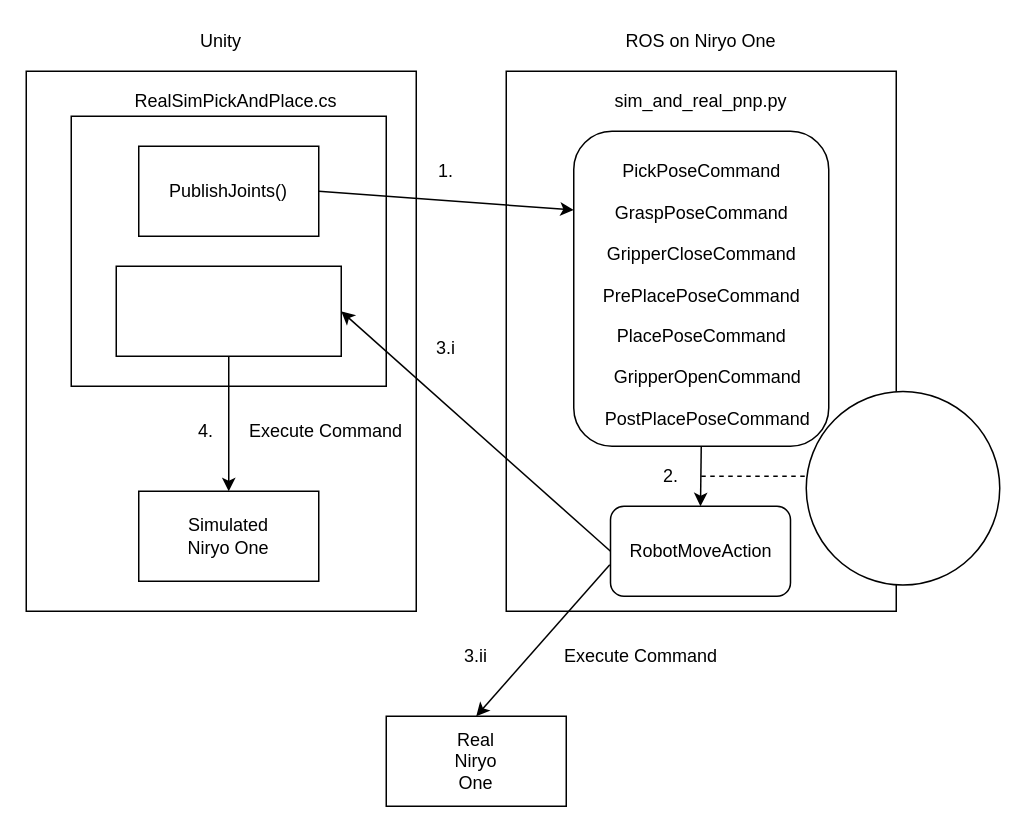
The diagram is 1026 pixels wide and 833 high, and some of its shapes have lost their labels. The shapes that lost their labels are listed below. From the top down, each one's box as (x1, y1, x2, y2) in pixels, then its label:
(115, 265, 341, 356): RobotMoveActionGoal Subscriber
(805, 390, 1000, 585): Each command sent one at a time after previous command has finished executing.
